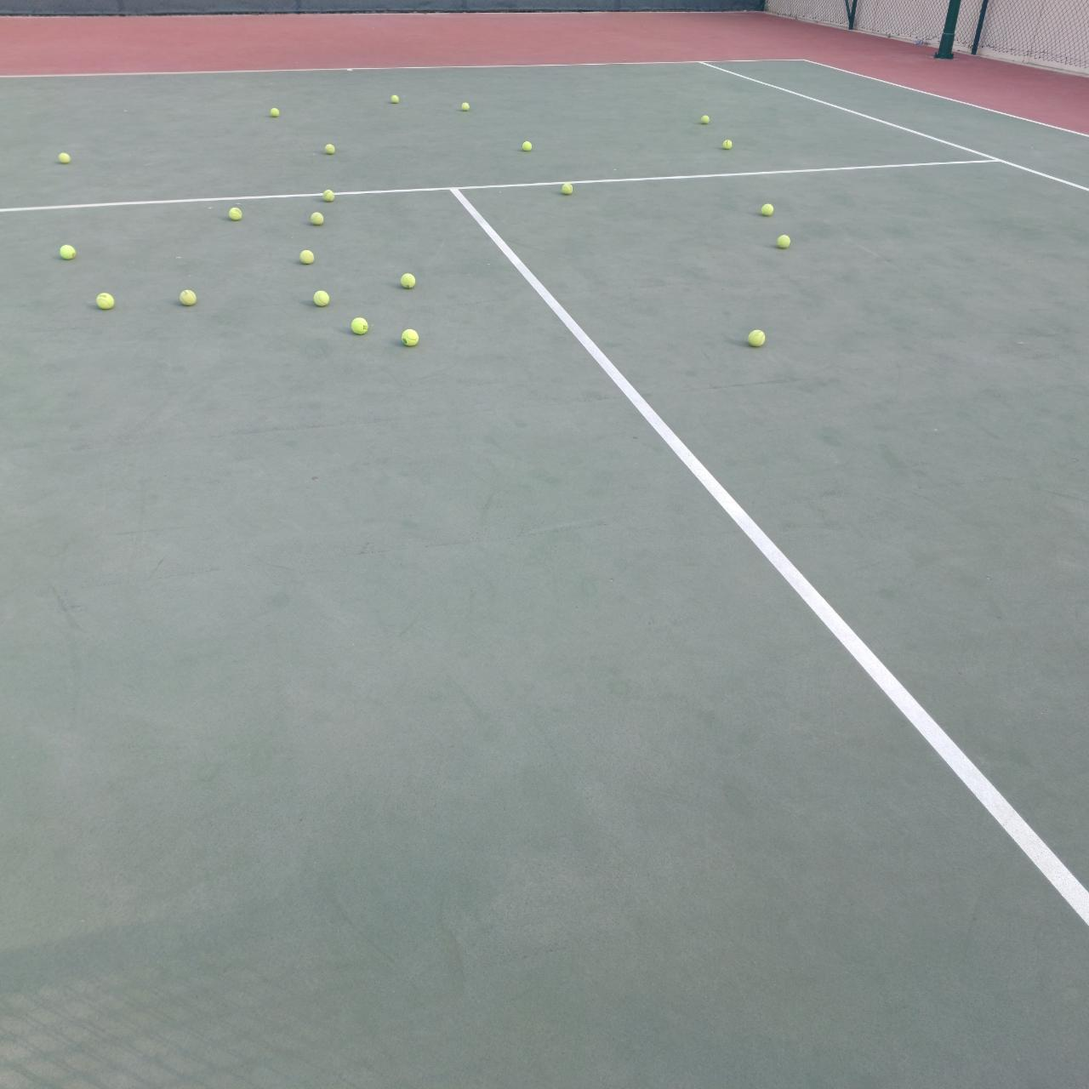tennis-ball: (747, 328, 766, 348), (95, 291, 115, 310), (400, 328, 419, 347), (312, 289, 330, 308), (351, 316, 368, 336), (179, 288, 197, 306), (399, 271, 416, 289), (59, 243, 76, 261), (299, 248, 315, 265), (310, 211, 324, 227), (777, 234, 790, 249), (229, 207, 242, 221), (761, 204, 774, 217), (58, 152, 71, 164), (323, 190, 335, 203), (325, 143, 336, 155), (562, 183, 573, 195), (722, 139, 733, 150), (270, 107, 280, 118), (522, 141, 532, 152), (391, 95, 400, 104), (461, 102, 470, 111), (701, 115, 710, 124)
